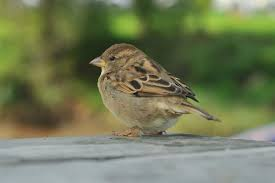hsparrow: (84, 40, 223, 143)
